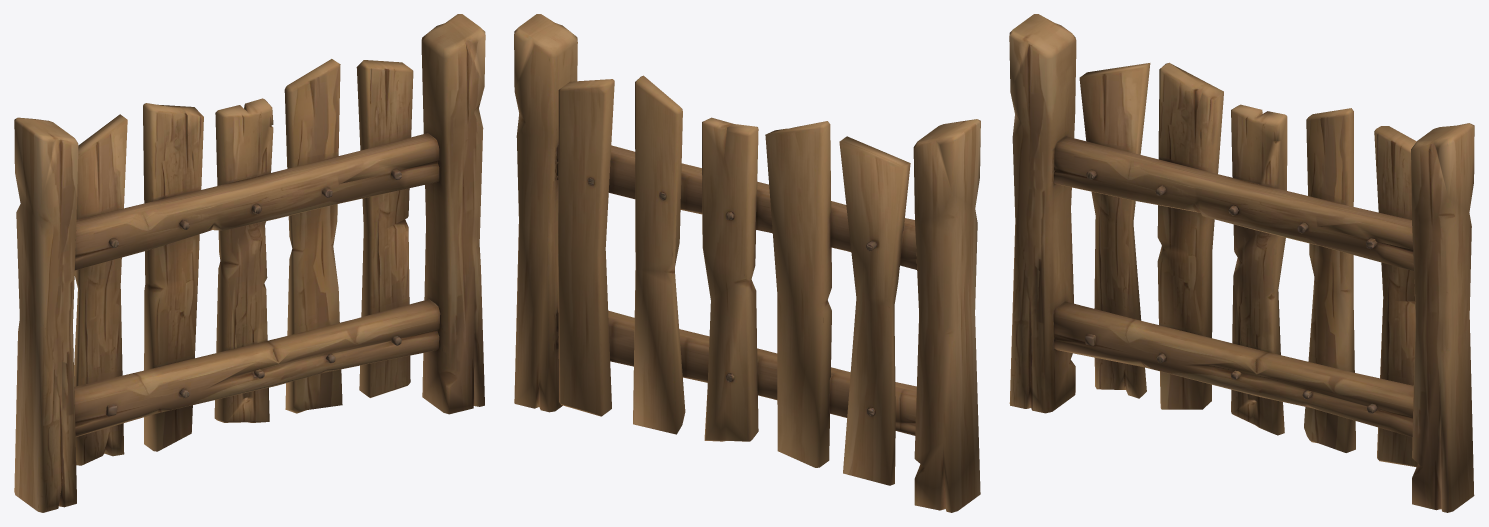
Rendered from selected.glb.
The picture shows the model from 3 angles, left to right: view 1: azimuth 30°, elevation 25°; view 2: azimuth 150°, elevation 25°; view 3: azimuth 330°, elevation 25°; orthographic projection.
Visible parts, largest first — view 1: tripo_node_3ca92a59-2cf2-4795-b4cb-5b3053d9b8ff; view 2: tripo_node_3ca92a59-2cf2-4795-b4cb-5b3053d9b8ff; view 3: tripo_node_3ca92a59-2cf2-4795-b4cb-5b3053d9b8ff.
Part boxes in pixels (x1,y1,x2,y2): tripo_node_3ca92a59-2cf2-4795-b4cb-5b3053d9b8ff: [14, 14, 485, 512]; tripo_node_3ca92a59-2cf2-4795-b4cb-5b3053d9b8ff: [514, 14, 980, 512]; tripo_node_3ca92a59-2cf2-4795-b4cb-5b3053d9b8ff: [1009, 14, 1474, 512].
Bounding box in the file's own units: 0.998 × 0.8027 × 0.1387.
Materials: 1 (1 with a texture image).
